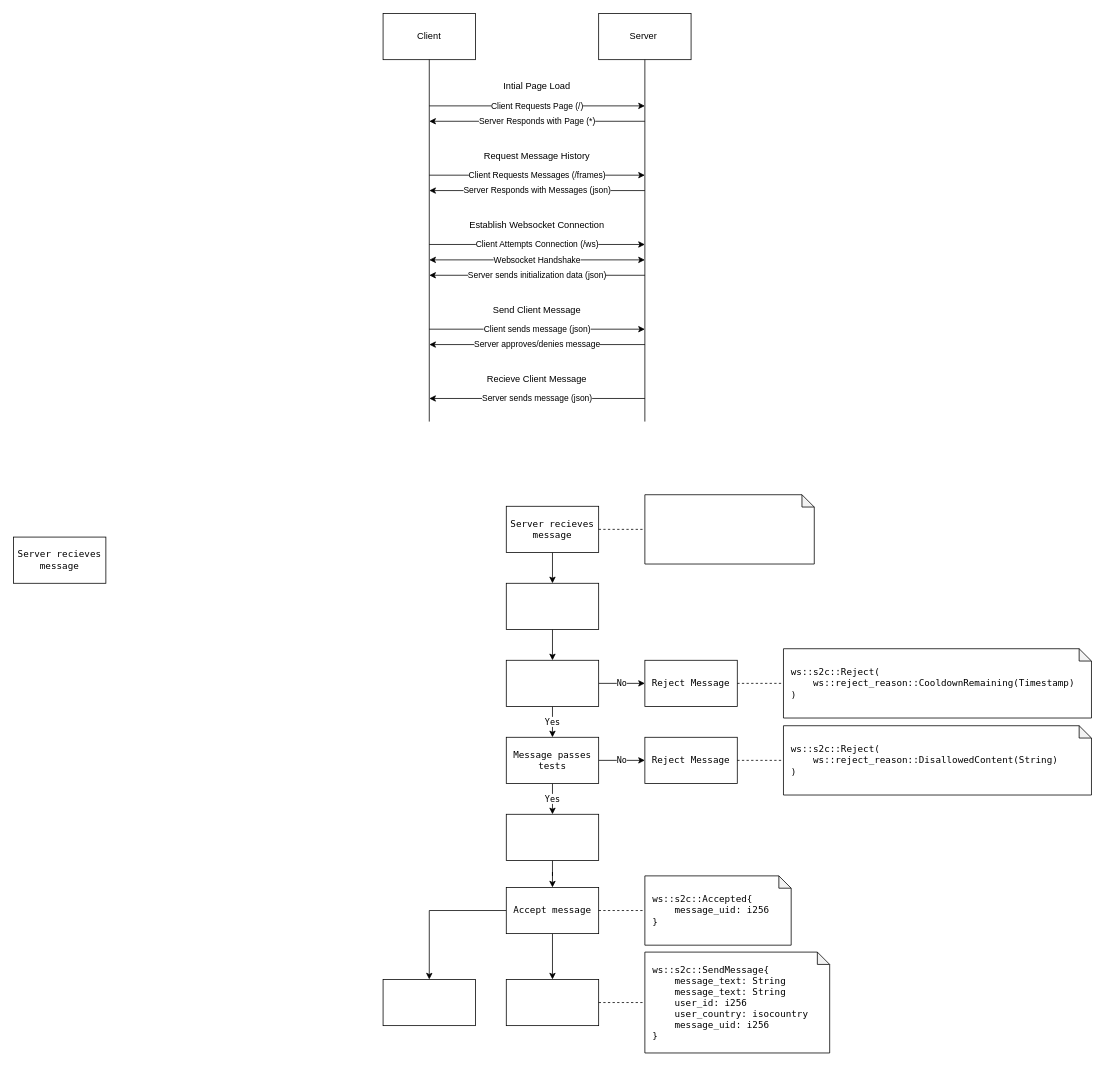
The diagram is 1105 pixels wide and 1066 high, and some of its shapes have lost their labels. The shapes that lost their labels are listed below. From the top down, each one's centre as x and y in pixels, then its label:
point 729,529: ws::c2s::SendMessage{ message_text: String message_subtext: String }
point 552,606: Get/create user
point 552,683: Has message cooldown passed?
point 552,837: Generate Message UID
point 428,1002: Save message to message cache
point 552,1002: Relay message to other users
